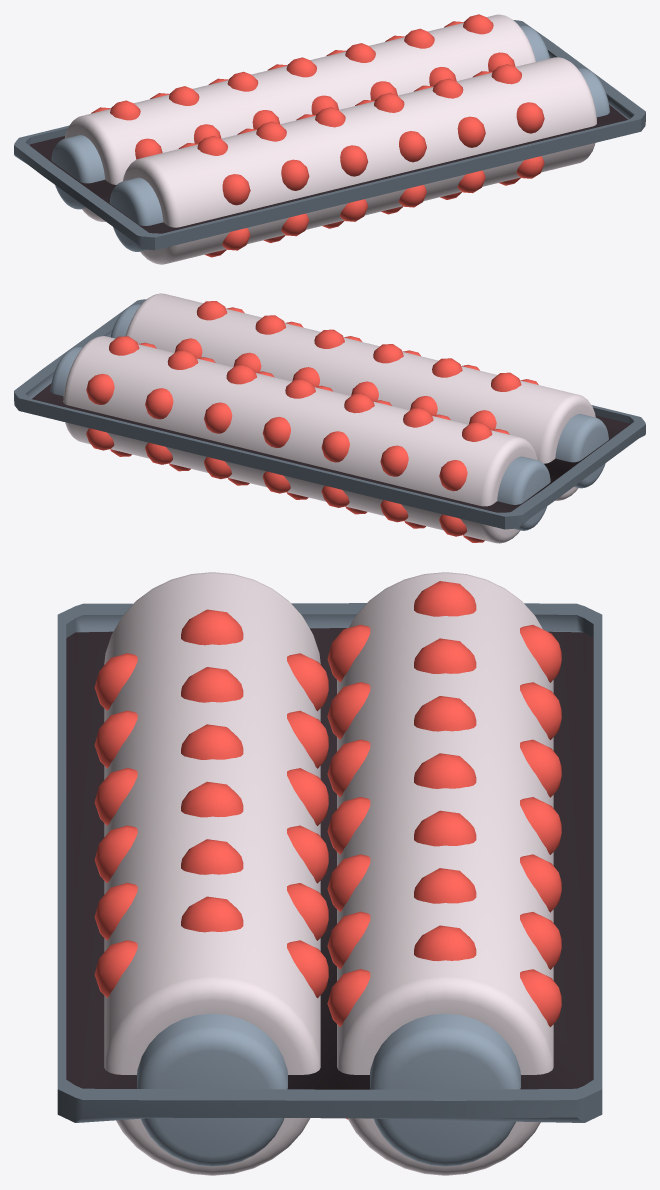
The model's file is HorizontalDoubleGrinderLong.fbx.
3 views of the same model, one above another, from view 1: azimuth 30°, elevation 25°; view 2: azimuth 150°, elevation 25°; view 3: azimuth 270°, elevation 25° (orthographic). The views are drawn at different scales.
Visible parts, largest first — view 1: HorizontalDoubleGrinder.002, HorizontalDoubleGrinder.003, HorizontalDoubleGrinderBase.001; view 2: HorizontalDoubleGrinder.003, HorizontalDoubleGrinder.002, HorizontalDoubleGrinderBase.001; view 3: HorizontalDoubleGrinder.003, HorizontalDoubleGrinder.002, HorizontalDoubleGrinderBase.001.
Boxes of the visible parts, bbox=[...] form: HorizontalDoubleGrinder.002: bbox=[109, 57, 609, 264]; HorizontalDoubleGrinder.003: bbox=[51, 14, 549, 221]; HorizontalDoubleGrinderBase.001: bbox=[14, 20, 645, 250]; HorizontalDoubleGrinder.003: bbox=[50, 336, 550, 543]; HorizontalDoubleGrinder.002: bbox=[110, 293, 608, 500]; HorizontalDoubleGrinderBase.001: bbox=[14, 299, 645, 529]; HorizontalDoubleGrinder.003: bbox=[327, 572, 561, 1175]; HorizontalDoubleGrinder.002: bbox=[94, 572, 328, 1175]; HorizontalDoubleGrinderBase.001: bbox=[57, 603, 602, 1122].
Size of the model in its own units: 607 by 135 by 281.
